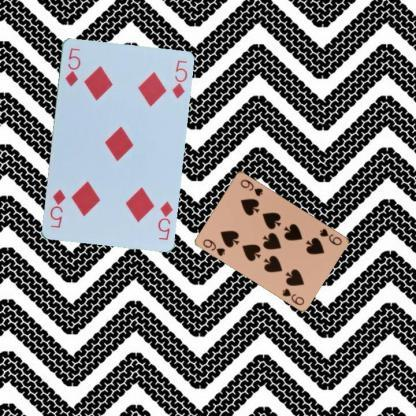5d: (62, 45, 82, 87), (155, 198, 174, 241)
9s: (200, 236, 226, 258), (317, 226, 343, 247)
